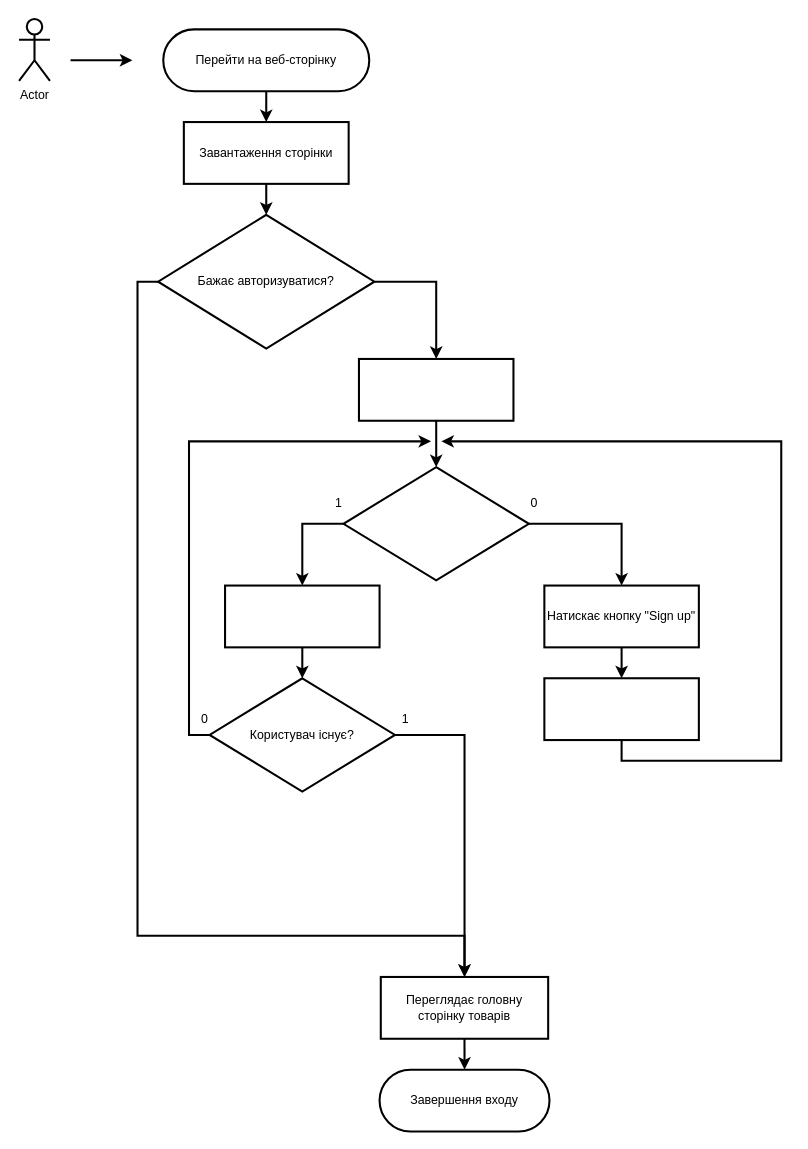
This 808x1149 diagram has some shape labels left out. The shapes that lost their labels are listed below. From the top down, each one's box as (x1, y1, x2, y2) in pixels, then its label:
(357, 357, 514, 421): Натискає кнопку "Log in"
(342, 466, 529, 581): Зареєстрований?
(224, 584, 380, 648): Вводить дані для верифікації
(543, 677, 699, 741): Заповнює форму
